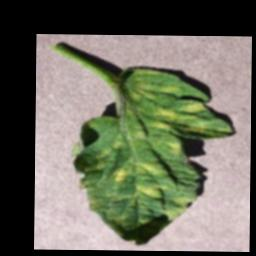Leaf_Mold: (166, 195, 198, 221), (146, 106, 177, 129), (134, 181, 172, 198), (135, 161, 168, 177), (178, 100, 208, 115), (113, 165, 135, 184), (163, 141, 185, 158)
